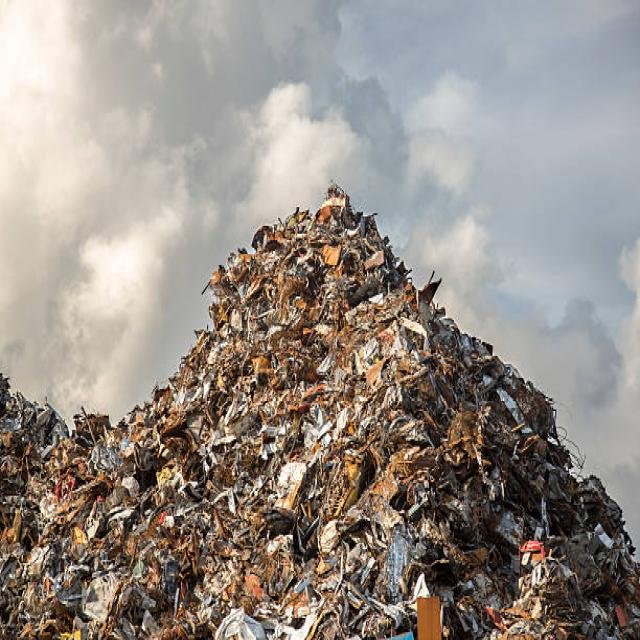metal: (275, 466, 624, 632), (4, 423, 256, 640), (228, 283, 409, 432)
